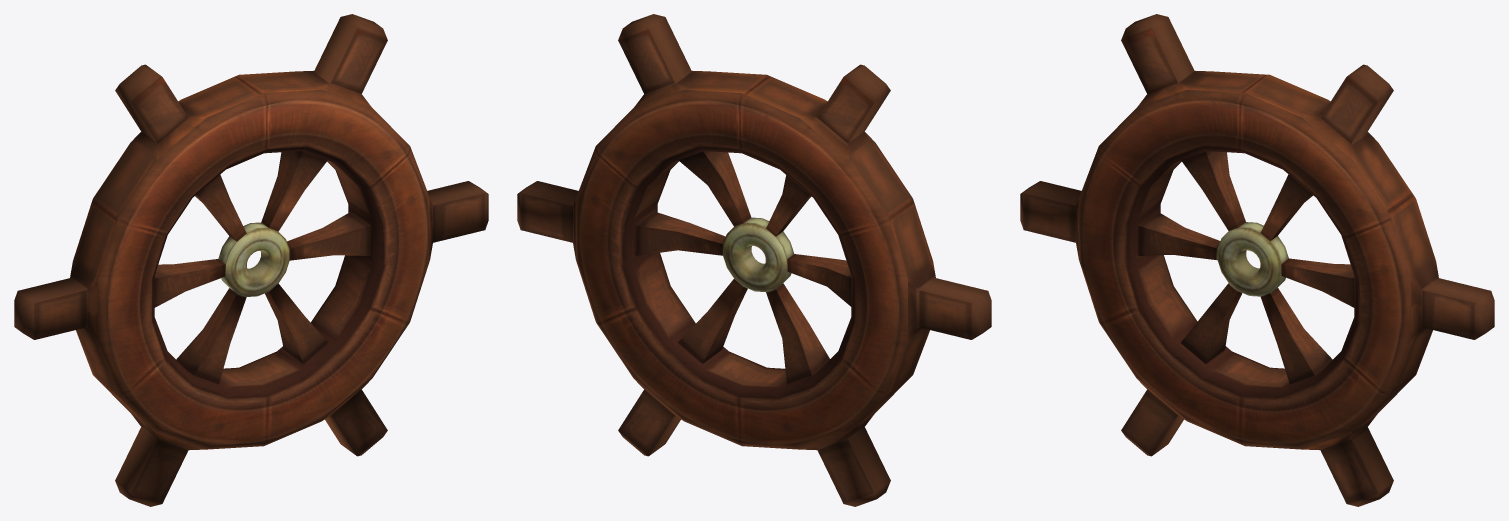
The model's file is shipWheelMesh.FBX.
3 renders of one model, left to right at view 1: azimuth 30°, elevation 25°; view 2: azimuth 150°, elevation 25°; view 3: azimuth 330°, elevation 25°, orthographic.
Parts seen in each view (by area): view 1: shipWheel; view 2: shipWheel; view 3: shipWheel.
Boxes of the visible parts, bbox=[...] form: shipWheel: bbox=[14, 14, 488, 506]; shipWheel: bbox=[517, 14, 991, 506]; shipWheel: bbox=[1020, 14, 1494, 506].
Size of the model in its own units: 2087 by 1863 by 253.
